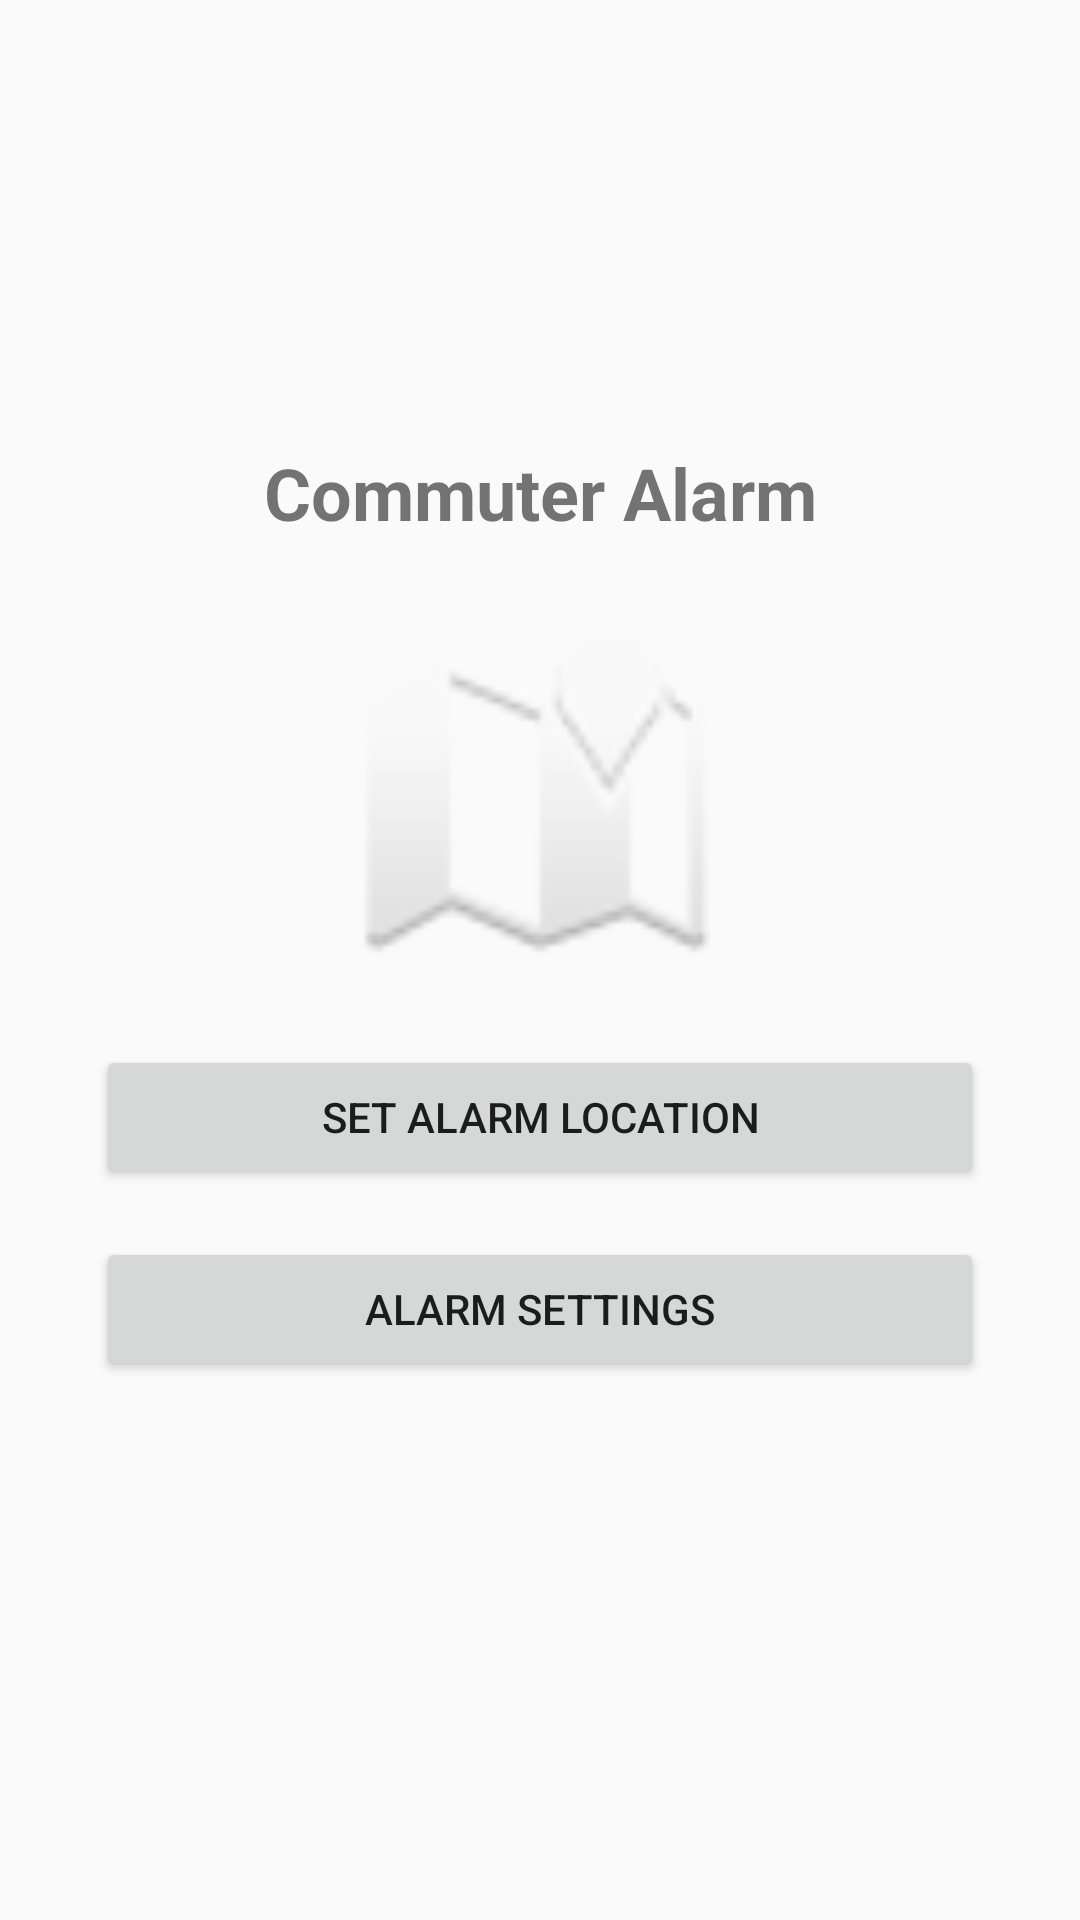

Where to tap for icons on this 1080 x 1920 app screen, as [x,y]:
map: [536,813]
